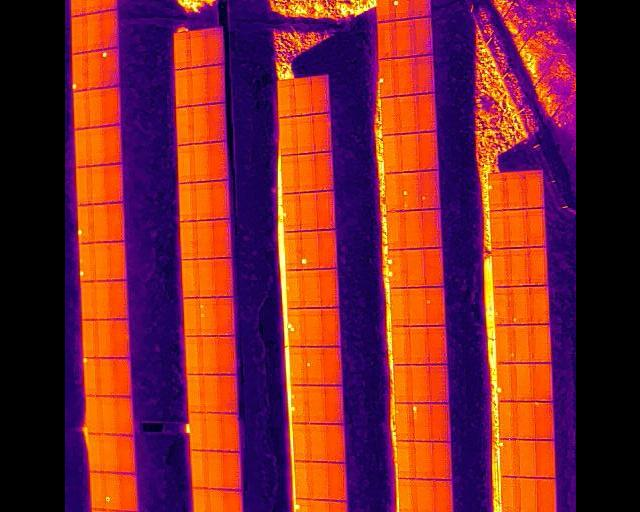Cell: (492, 286, 512, 325), (425, 287, 445, 326), (419, 171, 438, 209), (498, 437, 516, 477), (412, 403, 430, 442), (511, 286, 529, 324), (495, 325, 513, 363), (305, 347, 323, 385), (285, 269, 302, 308), (282, 194, 299, 232), (301, 231, 318, 269), (101, 50, 118, 87), (496, 363, 512, 401), (71, 53, 87, 90), (488, 173, 504, 210), (77, 205, 92, 244), (104, 473, 119, 511), (83, 358, 98, 396), (379, 58, 393, 97), (297, 499, 312, 512)
Cell-Multi: (399, 171, 418, 211), (199, 297, 217, 335), (286, 307, 303, 346), (78, 243, 94, 282), (389, 250, 405, 289), (291, 385, 306, 423), (391, 0, 408, 20)
No-Anomaly: (515, 439, 537, 478), (321, 346, 342, 385), (401, 210, 422, 249), (390, 19, 410, 59), (393, 56, 413, 96), (413, 55, 433, 95), (526, 247, 547, 285), (514, 401, 534, 440), (534, 439, 554, 478), (294, 114, 314, 153), (415, 131, 435, 170), (404, 248, 424, 287), (395, 96, 415, 135), (506, 209, 525, 249), (526, 208, 545, 247), (512, 324, 531, 363), (531, 362, 550, 401), (530, 324, 549, 363), (313, 113, 332, 152), (324, 385, 343, 424), (315, 191, 334, 230), (320, 308, 339, 347), (415, 94, 434, 133), (504, 172, 524, 209), (203, 28, 223, 65), (524, 171, 543, 209), (210, 181, 229, 219), (179, 259, 198, 297), (413, 441, 432, 479), (411, 18, 430, 56), (328, 461, 346, 501), (310, 77, 330, 113), (407, 287, 425, 327), (529, 286, 548, 323), (177, 222, 196, 259), (513, 362, 531, 401), (493, 248, 511, 287), (213, 257, 231, 296), (219, 375, 237, 414), (221, 413, 239, 452), (314, 152, 332, 191), (319, 269, 337, 308), (306, 384, 324, 423), (299, 192, 317, 231), (301, 269, 319, 308), (432, 441, 450, 480), (427, 326, 445, 365), (421, 209, 439, 248), (409, 326, 427, 365), (175, 107, 193, 145), (102, 125, 120, 163), (508, 248, 526, 286), (534, 404, 553, 440), (210, 142, 228, 180), (177, 183, 195, 221), (175, 145, 193, 183), (318, 230, 336, 268), (309, 424, 327, 462), (411, 365, 429, 403), (115, 395, 132, 435), (536, 477, 555, 512), (281, 155, 298, 194), (111, 319, 128, 358), (106, 203, 123, 242), (108, 242, 125, 281), (105, 163, 122, 202), (100, 10, 117, 49), (498, 401, 515, 440), (196, 220, 213, 259), (193, 143, 210, 182), (327, 424, 344, 463), (304, 307, 321, 346), (311, 460, 328, 499), (399, 133, 416, 172), (390, 288, 407, 327), (294, 79, 312, 115), (117, 435, 134, 473), (119, 472, 136, 510), (279, 117, 296, 155), (113, 357, 130, 395), (110, 281, 127, 319), (216, 297, 233, 335), (213, 220, 230, 258), (208, 104, 225, 142), (207, 65, 224, 103), (190, 67, 207, 105), (186, 375, 203, 413), (182, 298, 199, 336), (297, 153, 314, 191), (430, 403, 447, 441), (394, 365, 411, 403), (393, 327, 410, 365), (294, 459, 310, 499), (424, 249, 441, 286), (174, 69, 190, 108), (103, 87, 119, 126), (96, 319, 112, 358), (218, 336, 234, 375), (201, 335, 217, 374), (383, 135, 399, 174), (289, 346, 305, 385), (396, 403, 412, 442), (277, 81, 294, 117), (519, 476, 536, 512), (501, 476, 518, 512), (86, 13, 102, 51), (72, 91, 88, 129), (198, 259, 214, 297), (192, 105, 208, 143), (432, 480, 451, 512), (87, 88, 102, 128), (172, 32, 188, 69), (222, 452, 238, 489), (205, 414, 221, 451), (191, 451, 207, 488), (429, 366, 445, 403), (397, 442, 413, 479), (94, 242, 109, 281), (100, 396, 115, 435), (89, 471, 104, 510), (90, 166, 105, 205), (92, 204, 107, 243), (75, 168, 90, 207), (72, 15, 87, 54), (196, 181, 211, 220), (186, 336, 201, 375), (384, 173, 399, 212), (376, 21, 391, 60), (398, 478, 415, 512), (188, 31, 204, 67), (415, 480, 433, 512), (285, 231, 300, 269), (96, 281, 111, 319), (98, 358, 113, 396), (88, 128, 103, 166), (80, 281, 95, 319), (81, 320, 96, 358), (73, 129, 88, 167), (490, 211, 505, 249), (204, 375, 219, 413), (190, 413, 205, 451), (293, 423, 308, 461), (102, 435, 117, 472), (87, 51, 102, 88), (207, 452, 222, 489), (89, 435, 103, 472), (87, 396, 100, 435), (387, 211, 400, 250), (381, 98, 394, 136), (192, 487, 210, 512), (210, 488, 225, 512), (408, 0, 428, 18), (225, 490, 241, 512), (375, 0, 390, 23), (70, 0, 85, 16), (311, 498, 328, 512), (328, 500, 347, 512), (85, 0, 100, 14), (99, 0, 116, 10)
